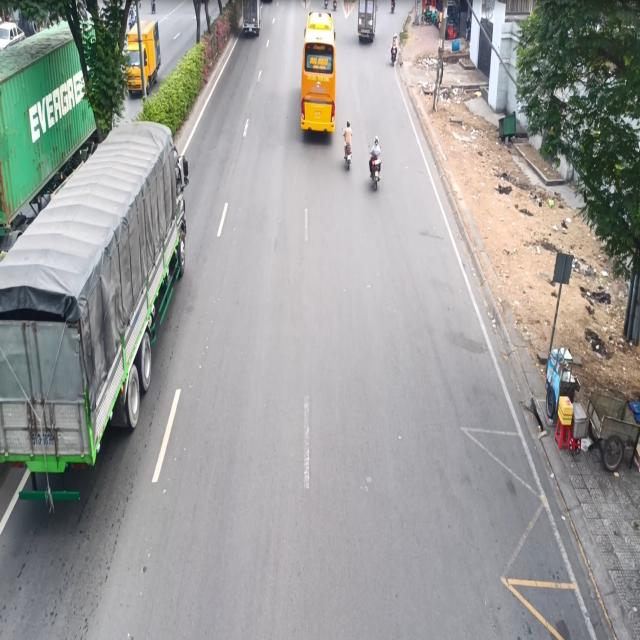bus: (298, 8, 338, 146)
motor: (368, 130, 386, 194), (340, 118, 357, 178)
truck: (0, 119, 200, 519), (353, 0, 377, 52)
